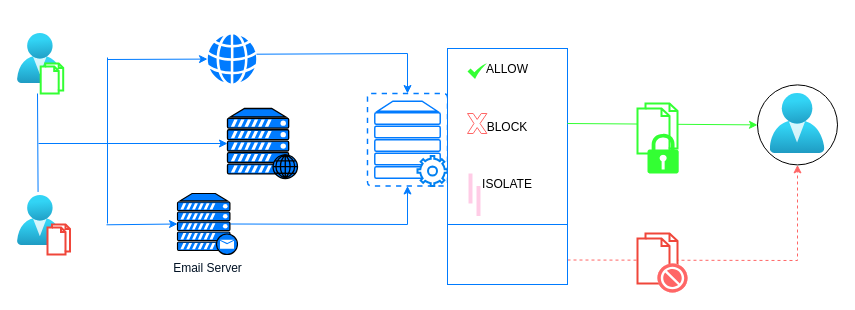
This 855x310 diagram has some shape labels left out. Each missing label, with the centre of its shape:
"DLP POLICY BASED CONTROLL" belongs at point (507, 254).
"Internet" belongs at point (231, 58).
